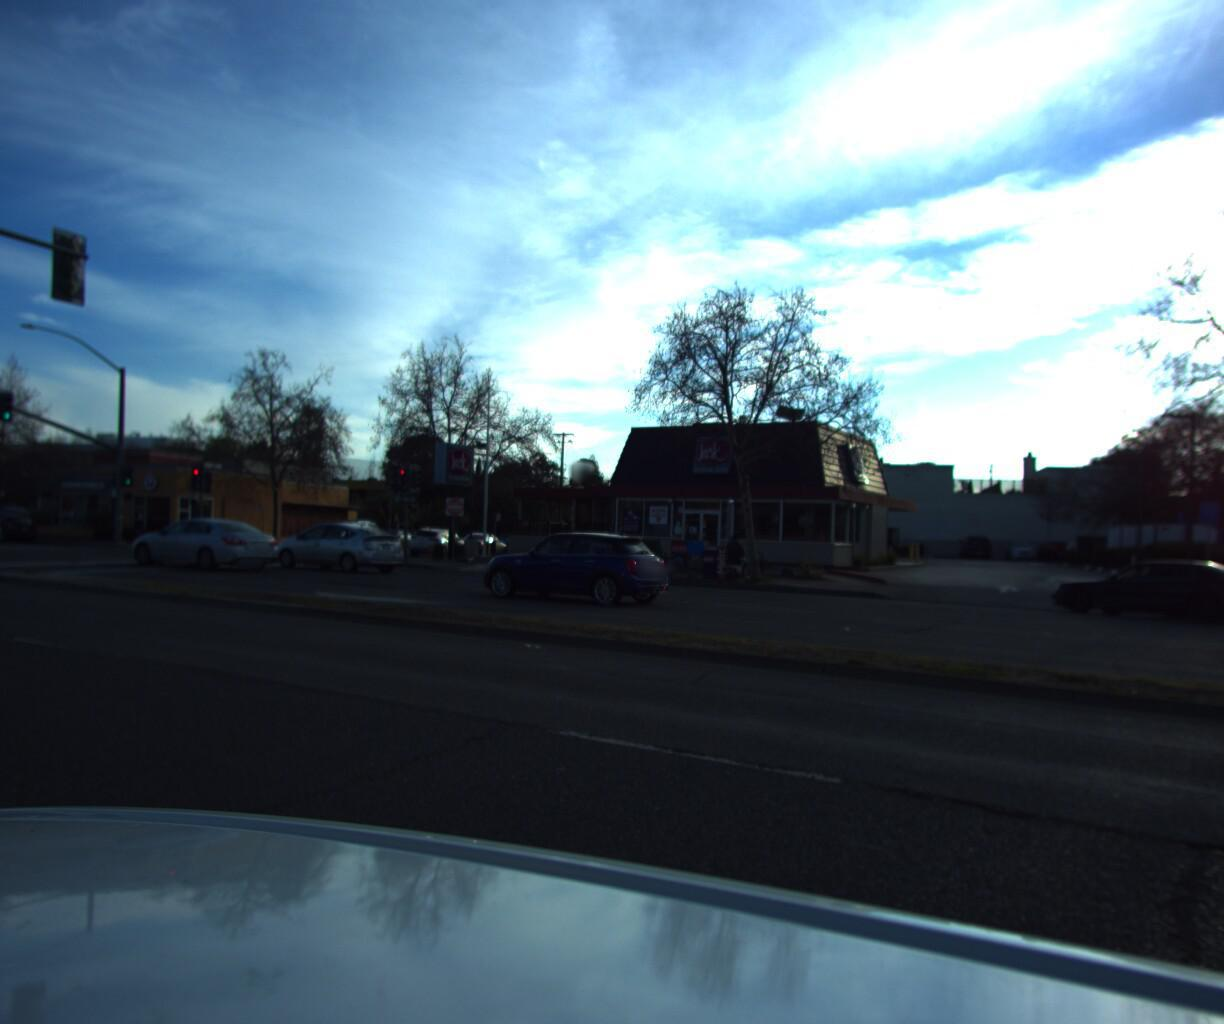car: (472, 515, 680, 606), (1049, 549, 1224, 636), (119, 511, 286, 570), (256, 513, 413, 573), (307, 513, 385, 543), (403, 520, 469, 552), (0, 505, 42, 538), (0, 496, 4, 547), (1222, 532, 1224, 581)
